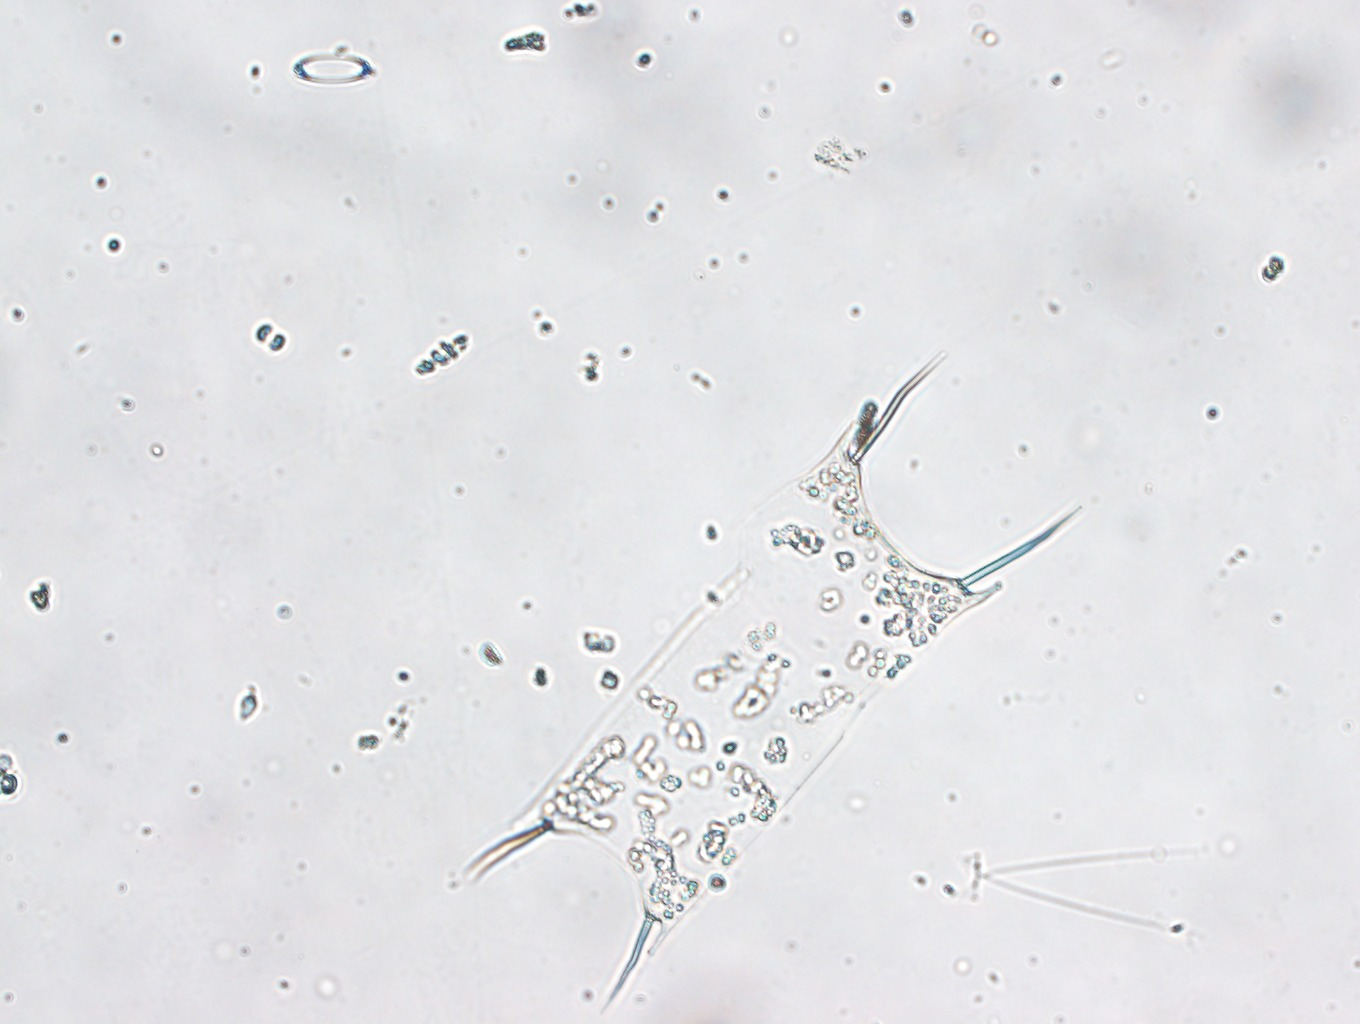biddulphia: (456, 359, 1092, 1005)
